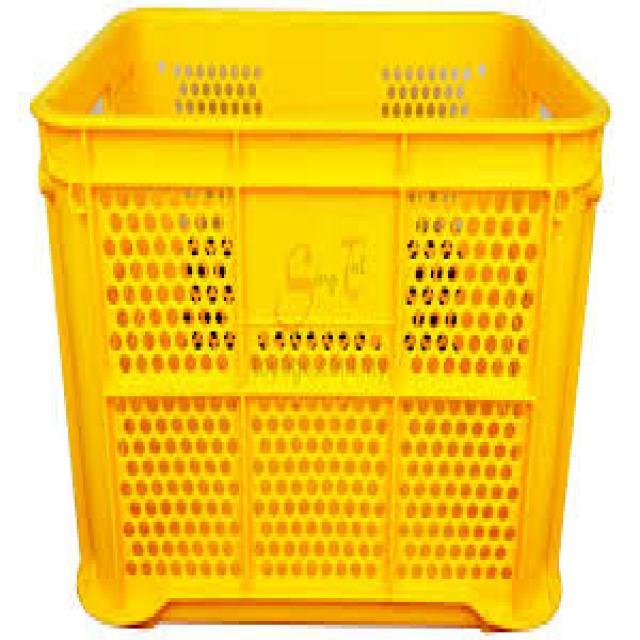basket: (32, 11, 610, 627)
